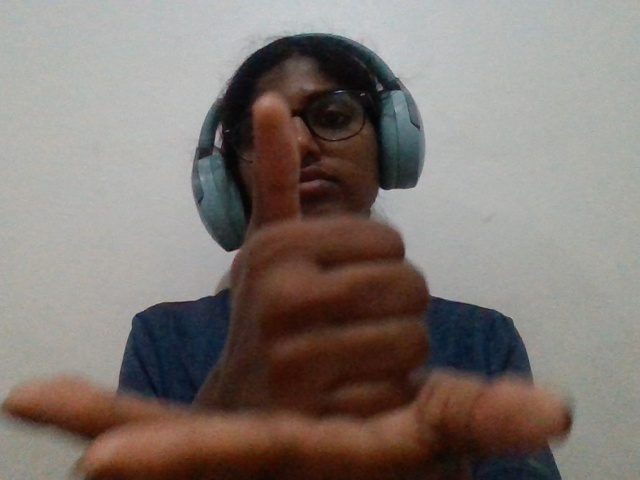Help: (11, 64, 613, 480)
